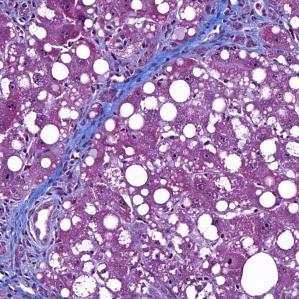fibrosis: (99, 8, 266, 82), (0, 190, 70, 298)
